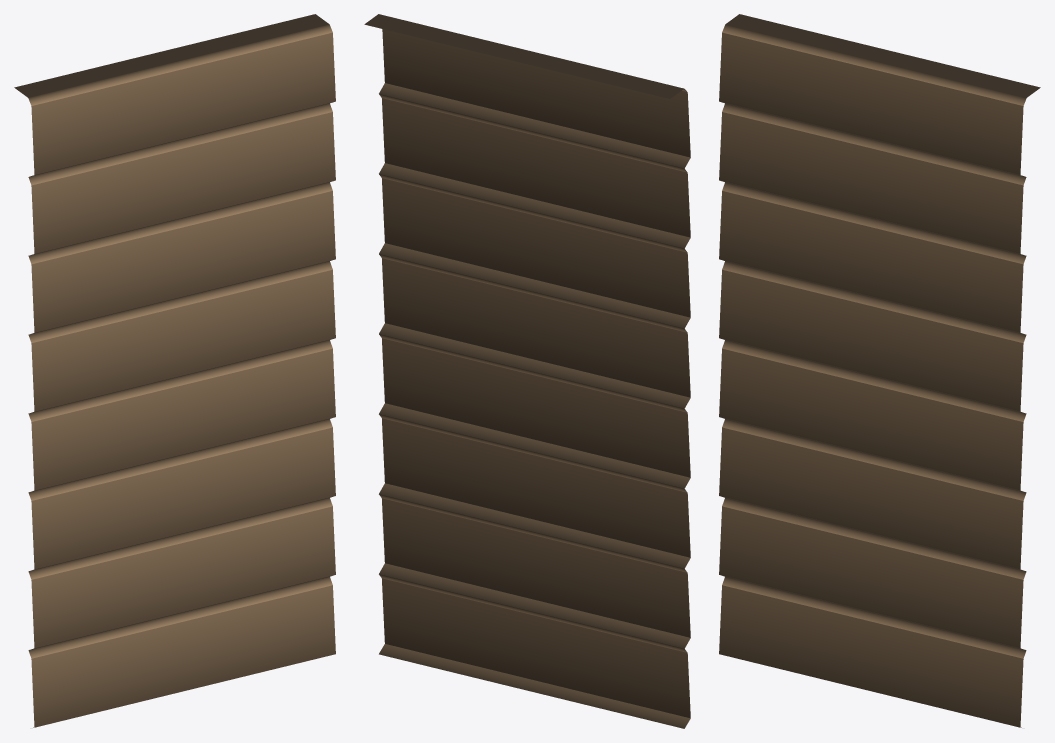
Rendered from plank_wall_default.fbx.
3 renders of one model, left to right at view 1: azimuth 30°, elevation 25°; view 2: azimuth 150°, elevation 25°; view 3: azimuth 330°, elevation 25°, orthographic.
Visible parts, largest first — view 1: plank_wall_default; view 2: plank_wall_default; view 3: plank_wall_default.
Boxes of the visible parts, x1,y1,x2,y2 form: plank_wall_default: (14, 14, 335, 727); plank_wall_default: (364, 14, 690, 728); plank_wall_default: (719, 14, 1040, 727).
Size of the model in its own units: 100 by 200 by 11.74.
